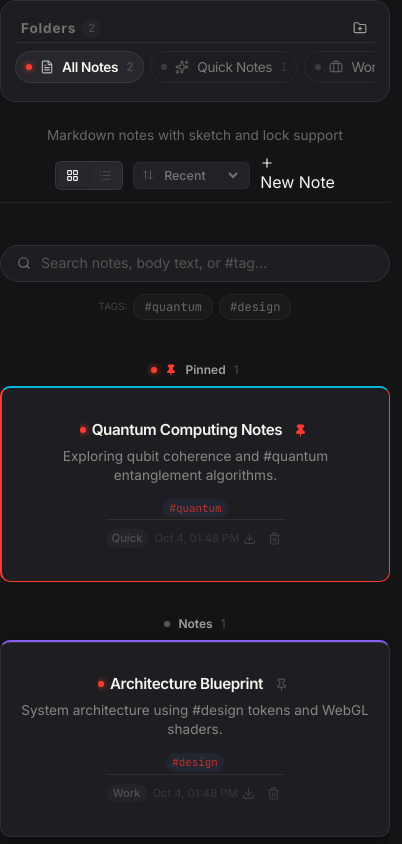
it: NotesWorkflows: Multi-Agent Edge & Unit Tests for Notes Vault › filters notes dynamically by search query across title and content
Type "entanglement" into the field with placeholder "Search notes, body text, or #tag...". click: (207, 263)
box: top-left (41, 254), bottom-right (373, 273)
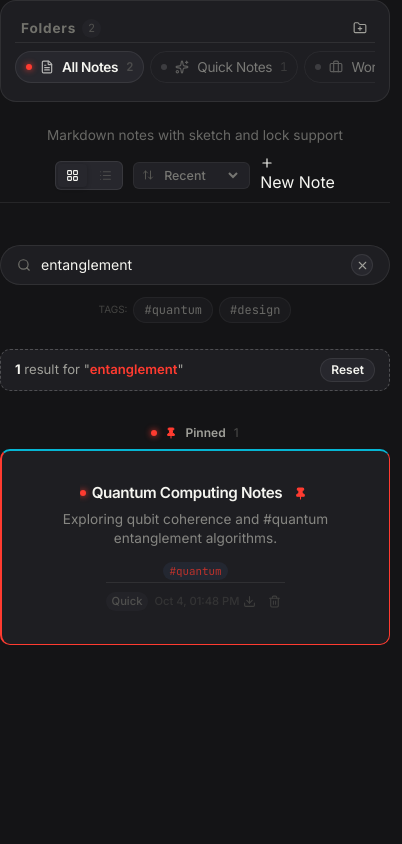
Expected: the heading "Quantum Computing Notes" is shown, top-left (92, 483), bottom-right (282, 503)
Now the heading "Architecture Blueprint" is gone
